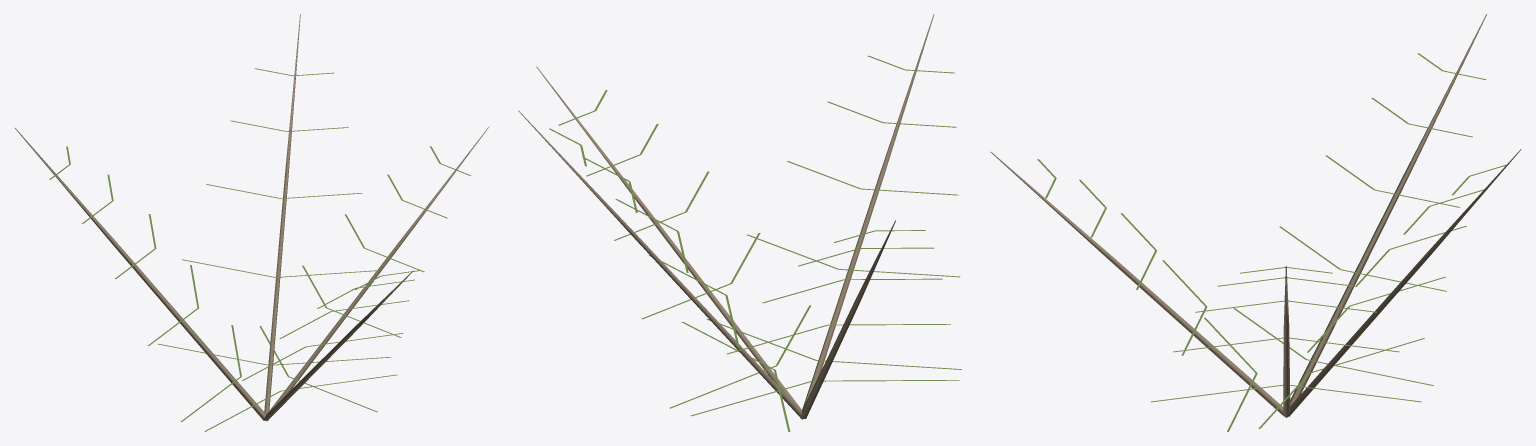
The model's file is fern_lod2.glb.
3 renders of one model, left to right at view 1: azimuth 30°, elevation 25°; view 2: azimuth 150°, elevation 25°; view 3: azimuth 270°, elevation 25°, orthographic. The views are drawn at different scales.
Parts seen in each view (by area): view 1: Bark, Leaves; view 2: Bark, Leaves; view 3: Bark, Leaves.
Boxes of the visible parts, left/top/right/bottom form: Bark: left=15, top=14, right=489, bottom=421; Leaves: left=49, top=68, right=470, bottom=431; Bark: left=518, top=14, right=934, bottom=419; Leaves: left=549, top=55, right=961, bottom=431; Bark: left=990, top=14, right=1521, bottom=417; Leaves: left=1037, top=53, right=1508, bottom=431.
Bounding box in the file's own units: 1.13 × 0.8332 × 1.16.
